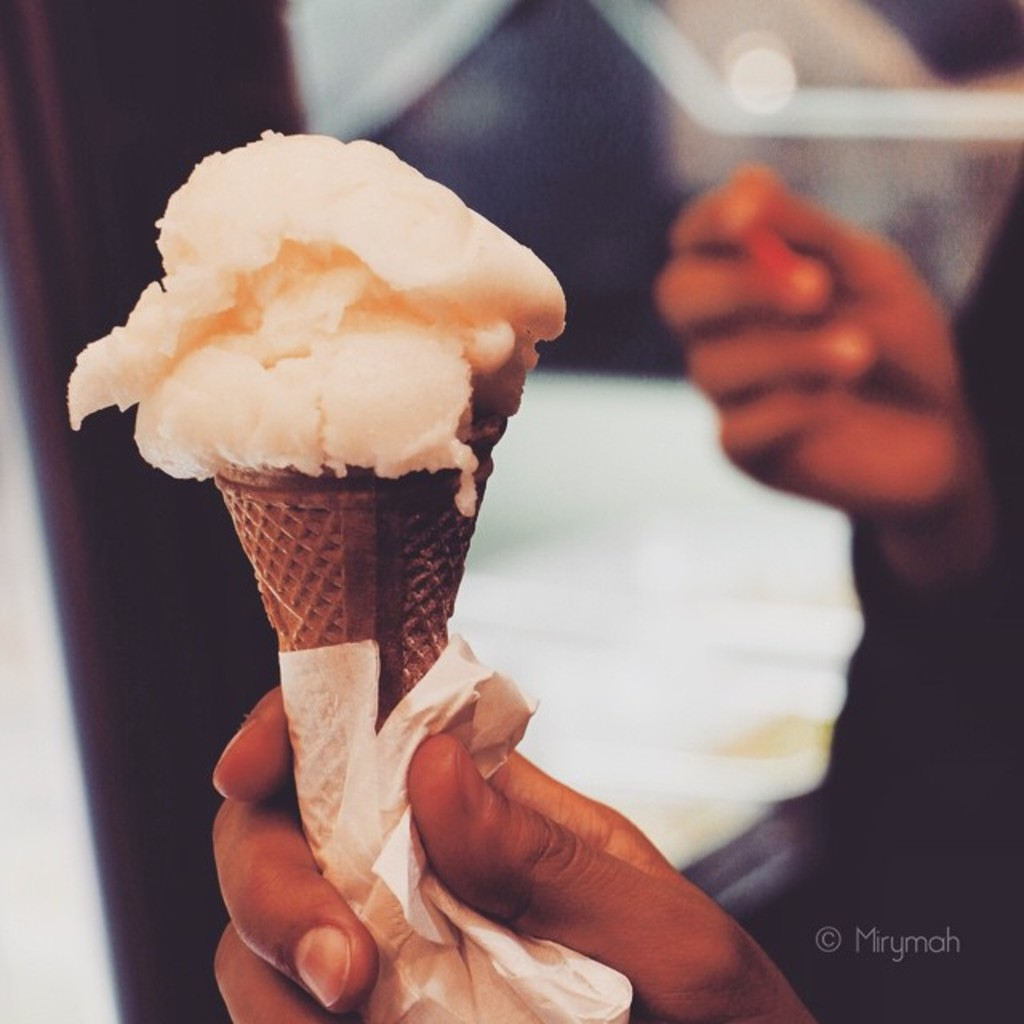Person: (654, 145, 1024, 1023), (210, 651, 816, 1024)
